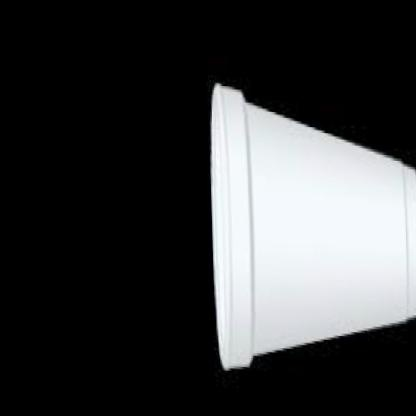trash: (211, 84, 415, 368)
